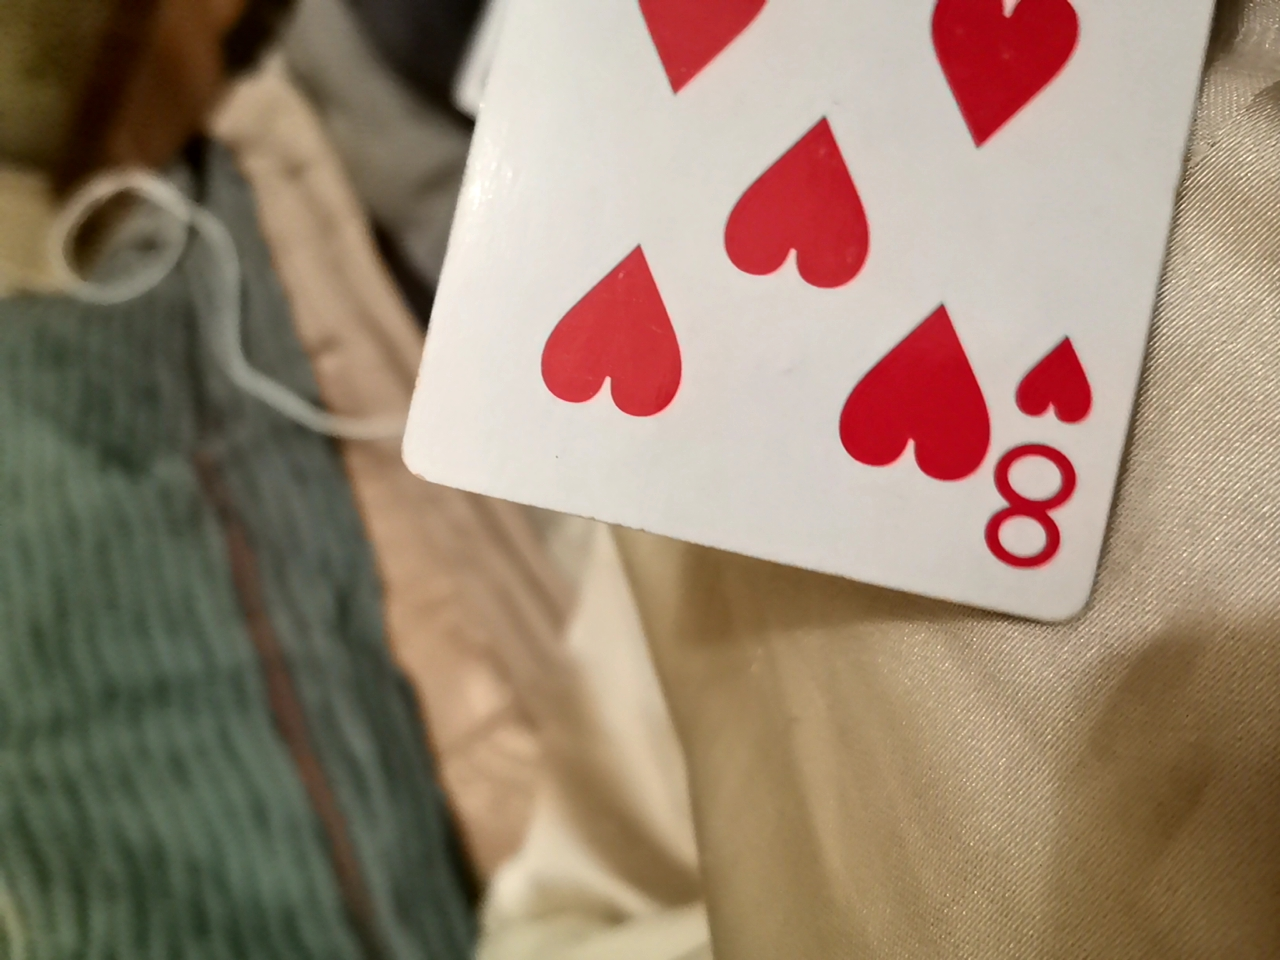hx 8: (386, 0, 1252, 639)
